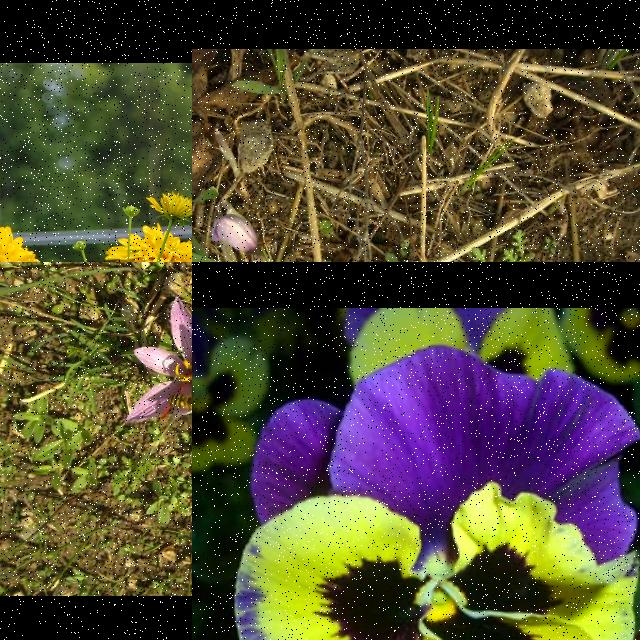flower: (123, 297, 192, 426), (212, 214, 260, 256)
